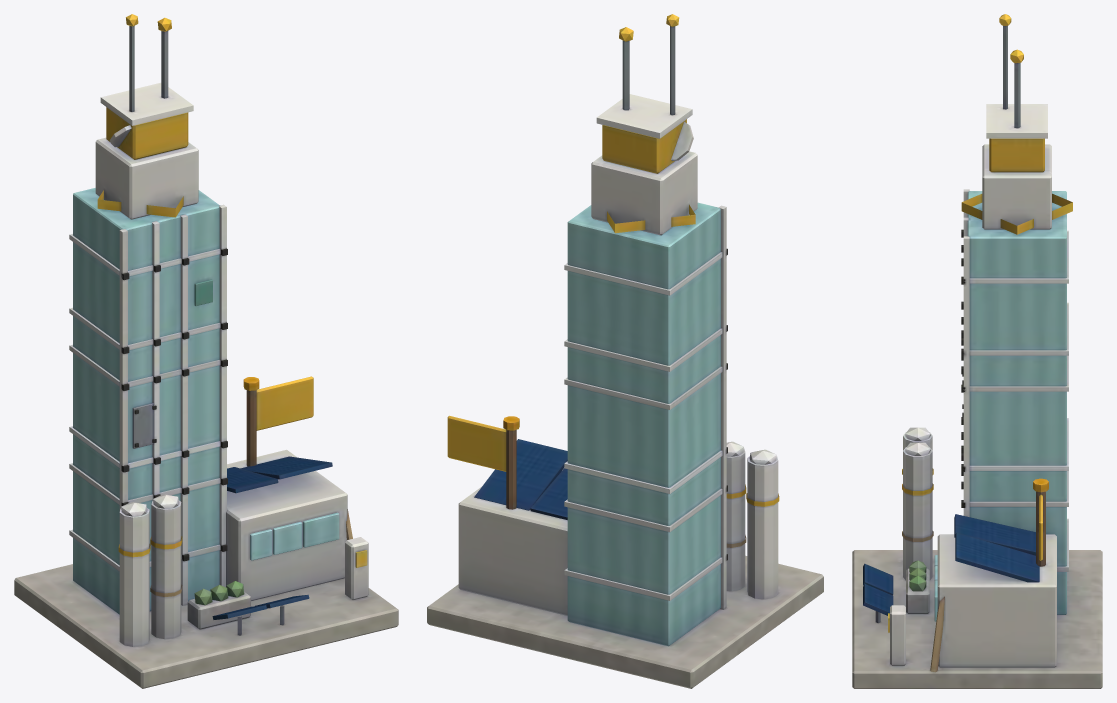
The model's file is refinery-30.glb.
3 renders of one model, left to right at view 1: azimuth 30°, elevation 25°; view 2: azimuth 150°, elevation 25°; view 3: azimuth 270°, elevation 25°, orthographic. The views are drawn at different scales.
Visible parts, largest first — view 1: refinery-30; view 2: refinery-30; view 3: refinery-30.
Boxes of the visible parts, <box> form: refinery-30: <box>14,14,398,688</box>; refinery-30: <box>427,14,823,688</box>; refinery-30: <box>852,14,1102,688</box>.
Size of the model in its own units: 1.52 by 3.26 by 1.26.
Materials: 1 (1 with a texture image).
